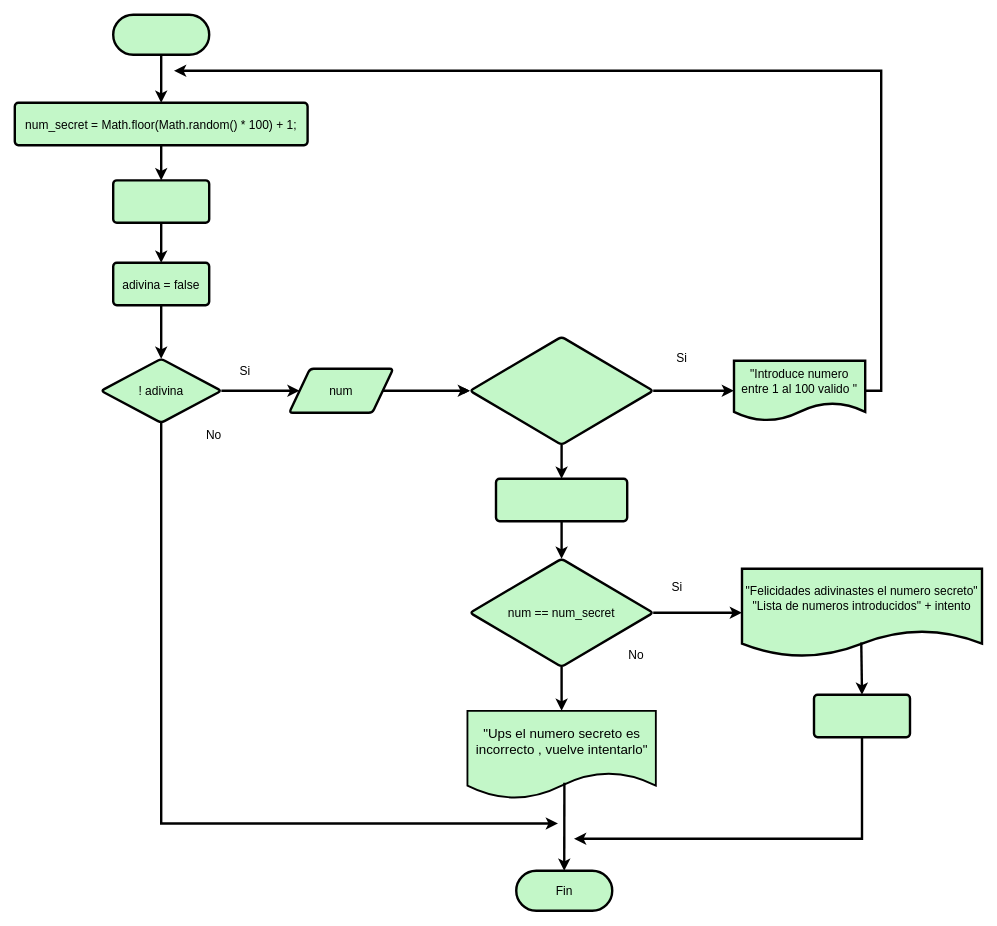
Some shapes in this 997 by 926 pixel diagram are drawn without their labels. Each missing label, with the centre of its shape:
"!num || isNaN(num) || num < 1 || num > 100" belongs at point 561,390.
"adivina = true" belongs at point 861,715.
"Inicio" belongs at point 161,34.
"intento = [ ]" belongs at point 161,201.
"intento.push (num)" belongs at point 561,499.
